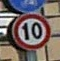limite 10: (11, 13, 49, 50)
